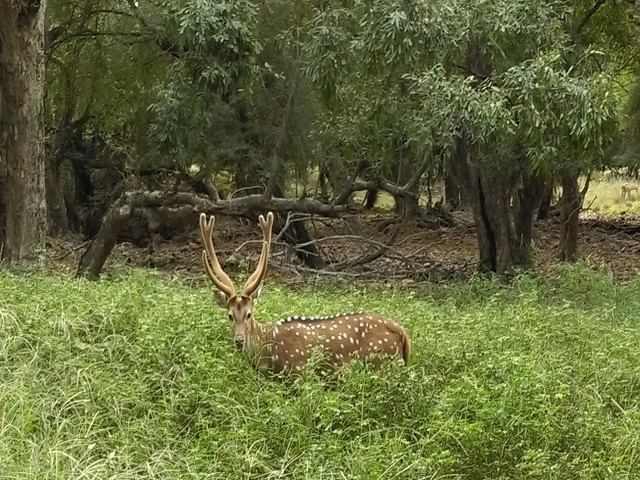deer: (192, 208, 423, 377)
